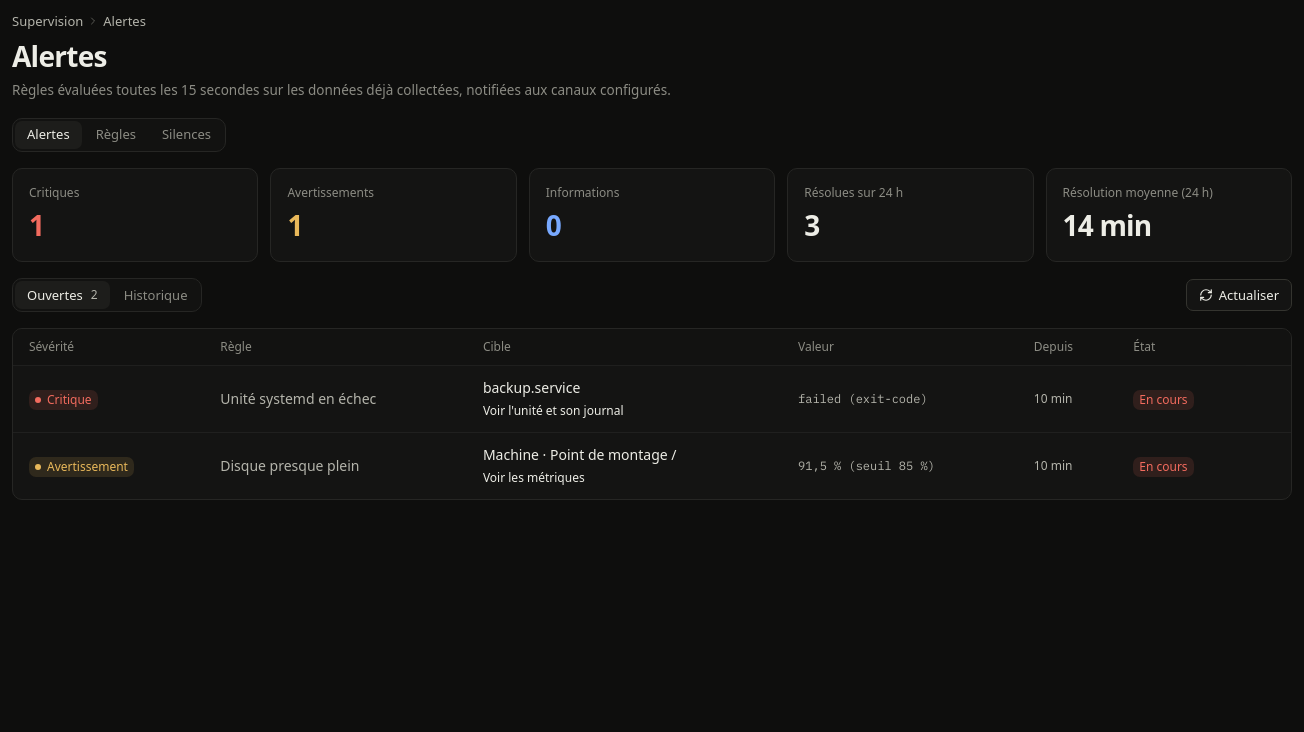
Test case: AlertsPage › shows the indicators and the open alerts, most severe first, read-only for a viewer
expect the text "Unité systemd en échec" is shown: met, box top-left (204, 366), bottom-right (467, 433)
expect the text "14 min" is shown: met, box top-left (1063, 206), bottom-right (1151, 244)
Step 1. Click the button "Historique" → (156, 295), box top-left (112, 281), bottom-right (200, 309)
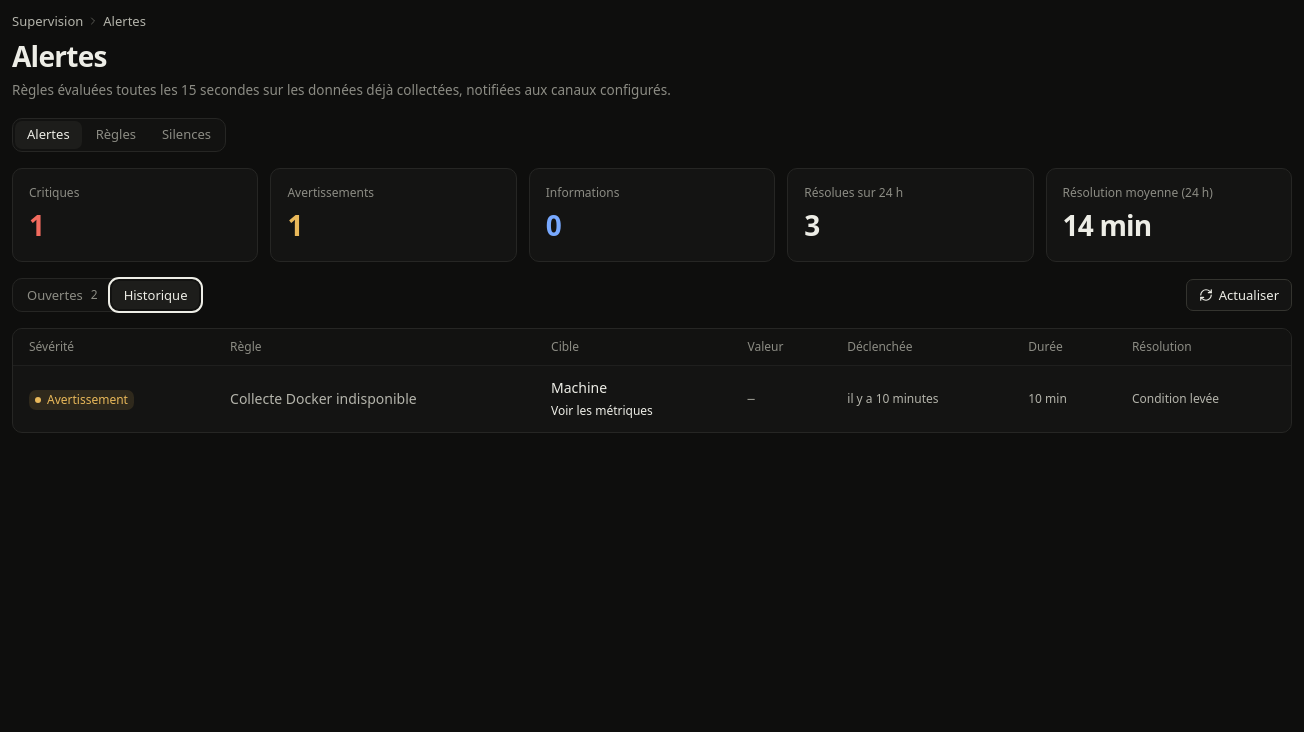
expect the text "Condition levée" is shown: met, box top-left (1116, 366), bottom-right (1291, 432)
Step 2. Click the button "Règles" → (116, 135), box top-left (84, 121), bottom-right (148, 149)
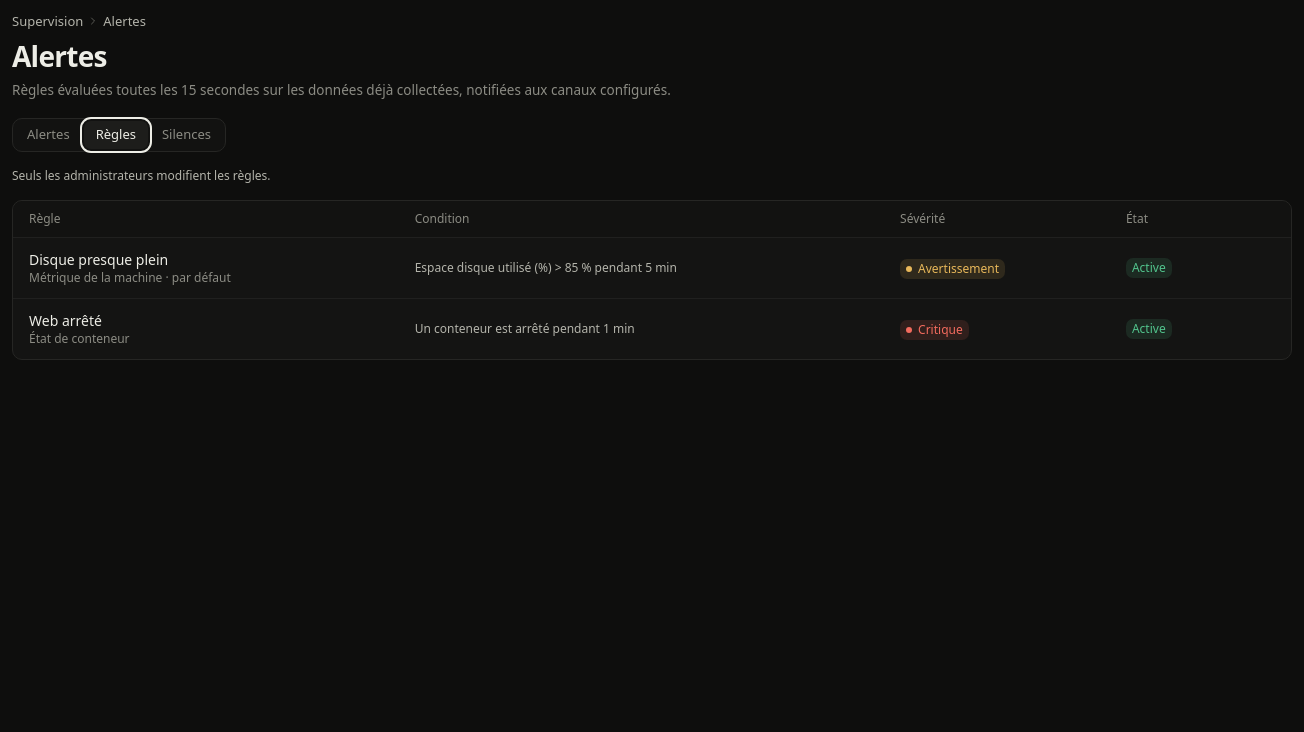
expect the text "Seuls les administrateurs modifient les règles." is shown: met, box top-left (12, 167), bottom-right (270, 184)
